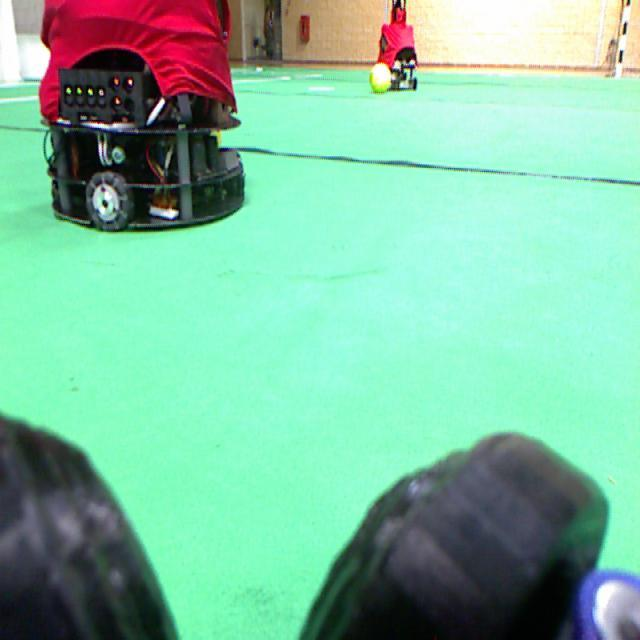ball: (369, 63, 390, 92)
